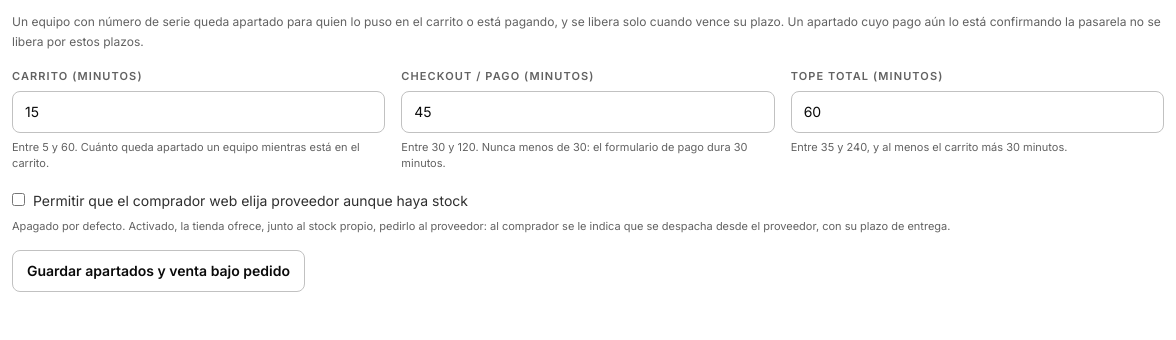
Test case: a refusal for lack of permission shows the server's reason
Click the checkbox labelled "Permitir que el comprador web elija proveedor aunque haya stock" at (18, 199), box [12,192,25,206]
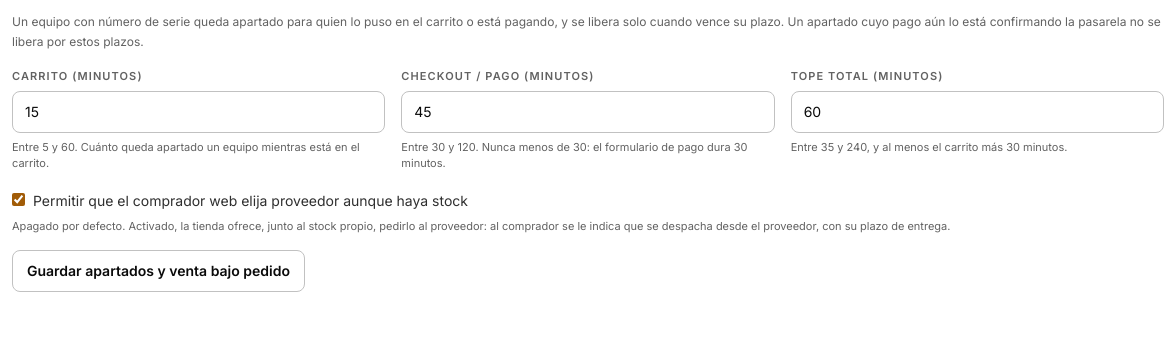
Click the button "Guardar apartados y venta bajo pedido" at (158, 271), box [12,250,305,292]
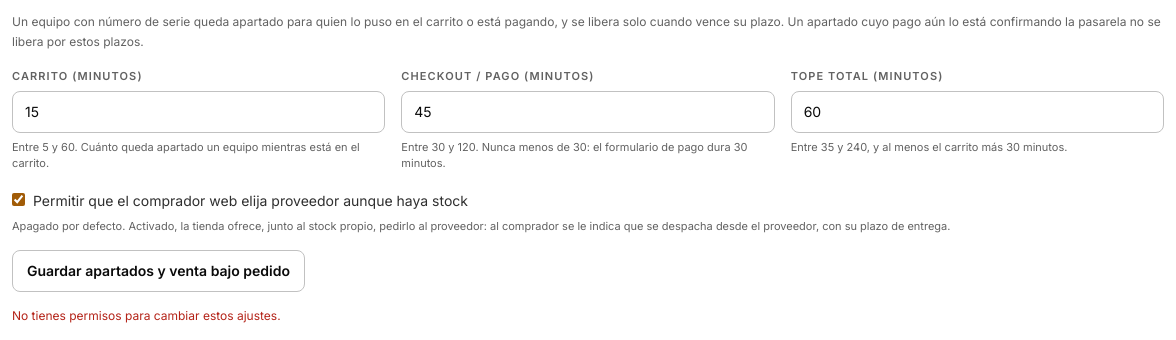
Check: the message reads "No tienes permisos para cambiar estos ajustes.", box [12,308,281,323]
